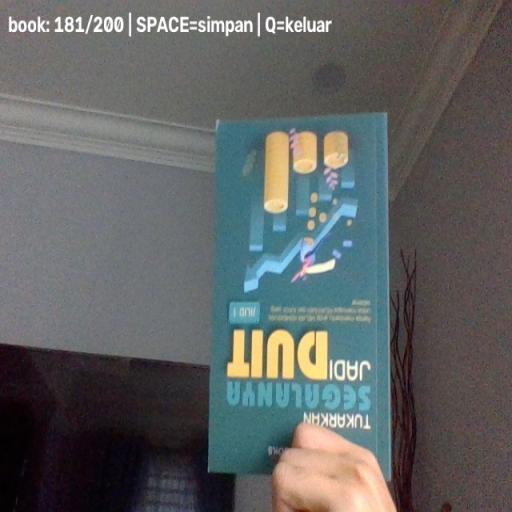Book: (208, 112, 392, 482)
